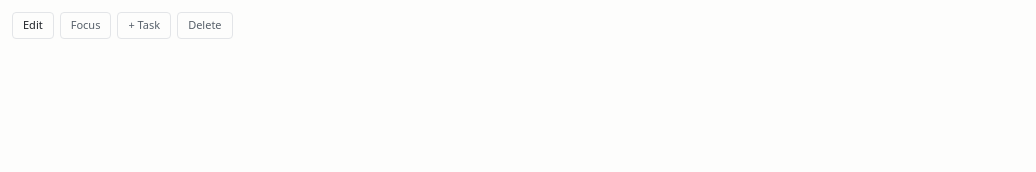
Test: IssueActions › clears a stale focus acknowledgement and error once the issue changes underneath it
Click the button "Focus": (86, 25) [60,12,111,38]
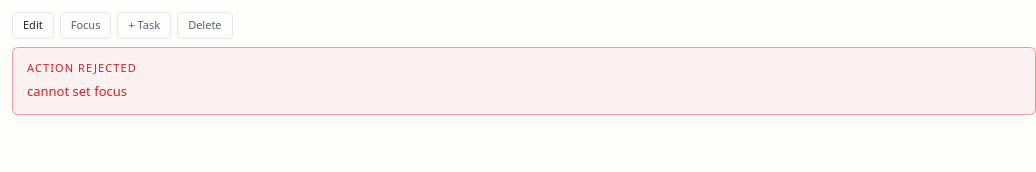
Expected: the text "cannot set focus" is shown, [27,82,127,100]
